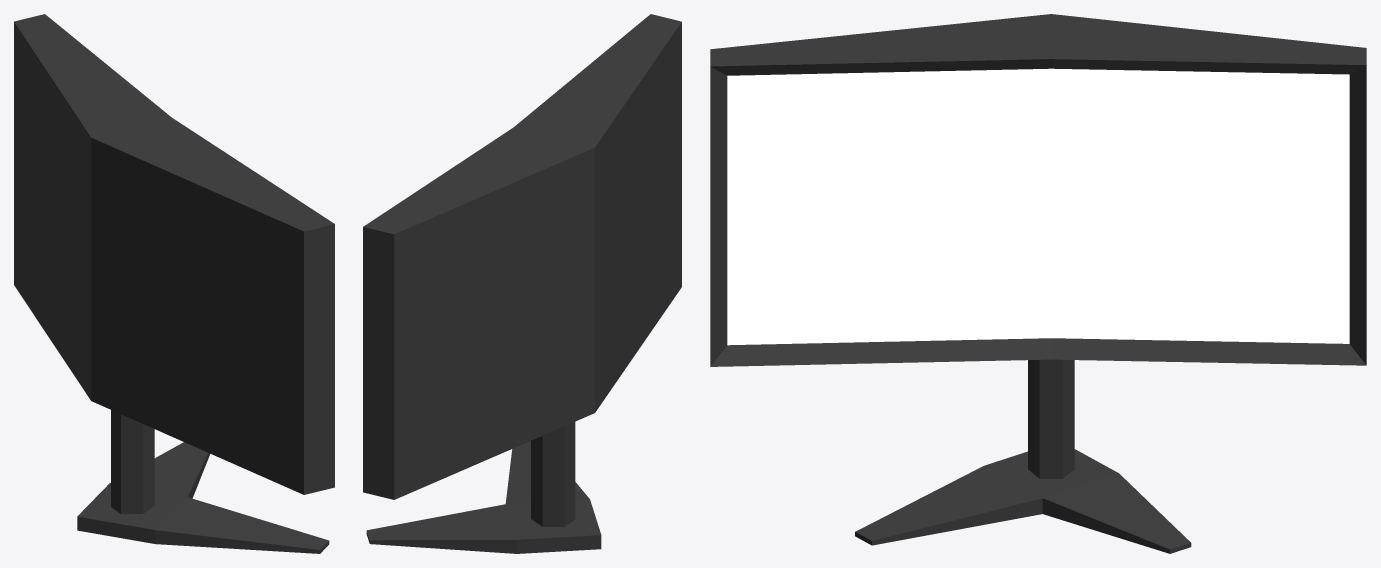
Rendered from Monitor.fbx.
3 renders of one model, left to right at view 1: azimuth 30°, elevation 25°; view 2: azimuth 150°, elevation 25°; view 3: azimuth 270°, elevation 25°, orthographic. The views are drawn at different scales.
Parts seen in each view (by area): view 1: Monitor; view 2: Monitor; view 3: Monitor.
Part boxes in pixels (bbox=[...]): Monitor: bbox=[14, 14, 334, 553]; Monitor: bbox=[363, 14, 681, 553]; Monitor: bbox=[710, 14, 1366, 553].
Size of the model in its own units: 96.81 by 197 by 261.
